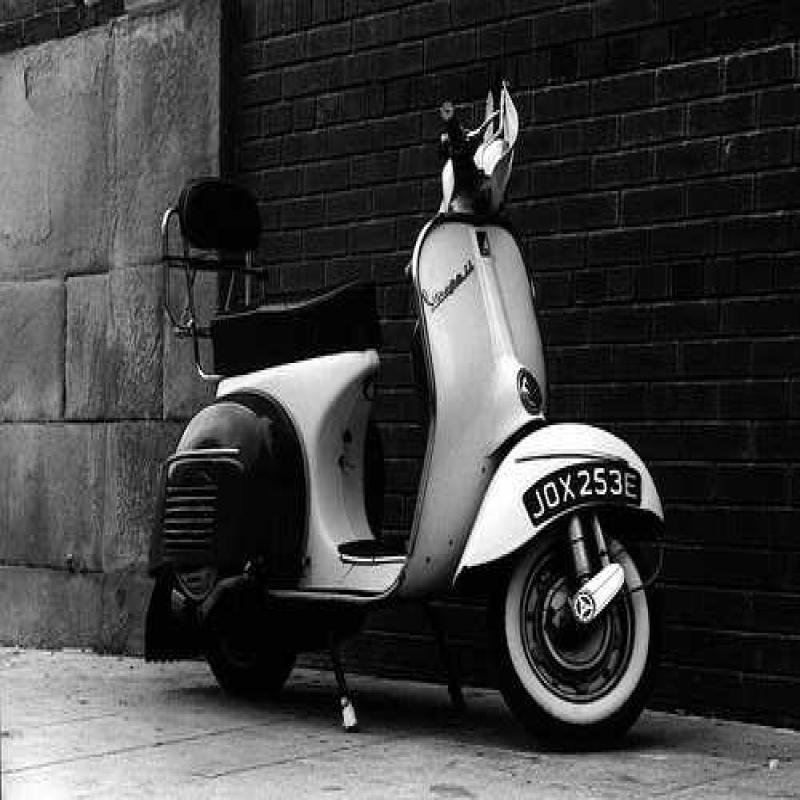bike: (145, 86, 656, 727)
